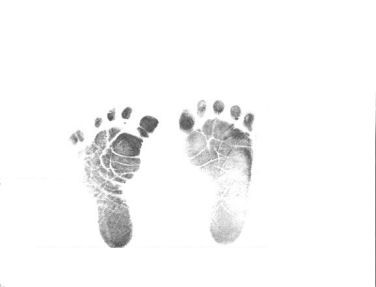human_footprint: (65, 94, 161, 255), (176, 90, 263, 251)
